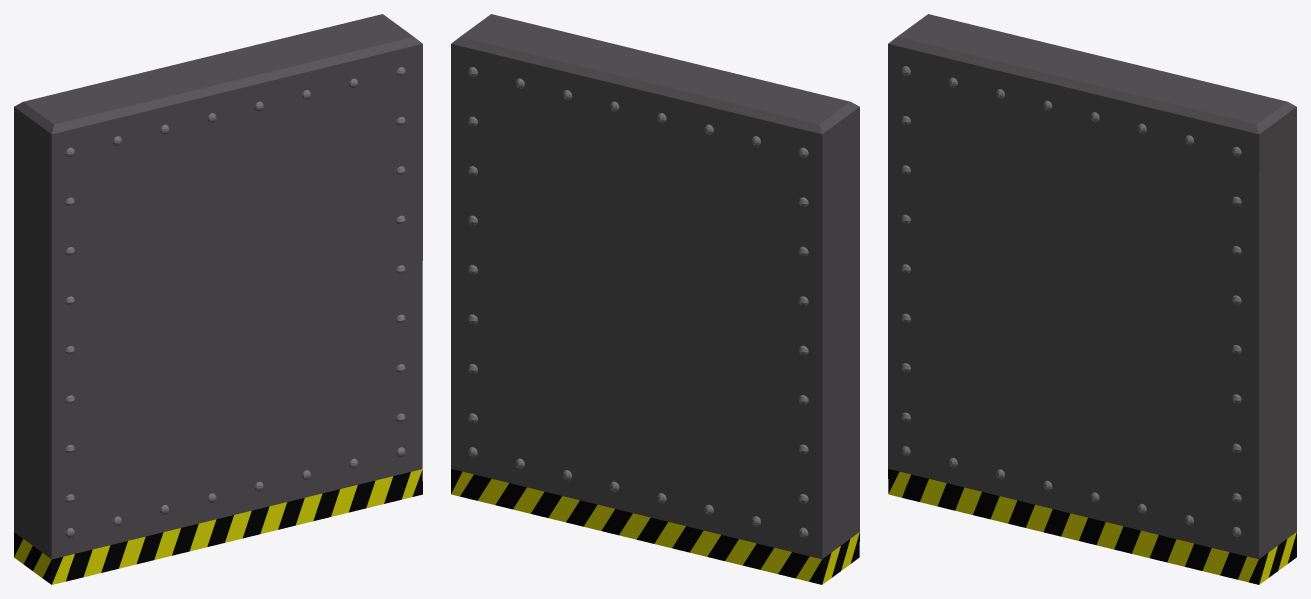
File: MetalWall.glb
3 renders of one model, left to right at view 1: azimuth 30°, elevation 25°; view 2: azimuth 150°, elevation 25°; view 3: azimuth 330°, elevation 25°, orthographic.
Parts seen in each view (by area): view 1: Cube.001, Sphere, Sphere.002, Sphere.003, Sphere.001; view 2: Cube.001, Sphere.007, Sphere.004, Sphere.005, Sphere.006; view 3: Cube.001, Sphere, Sphere.003, Sphere.002, Sphere.001.
Boxes of the visible parts, x1,y1,x2,y2 form: Cube.001: (14,14,422,584); Sphere: (65,447,405,537); Sphere.002: (65,149,74,503); Sphere.003: (396,68,405,422); Sphere.001: (67,67,405,157); Cube.001: (451,14,859,584); Sphere.007: (468,447,808,537); Sphere.004: (468,68,477,422); Sphere.005: (799,149,808,503); Sphere.006: (468,67,806,157); Cube.001: (888,14,1296,584); Sphere: (901,446,1241,536); Sphere.003: (1232,148,1241,502); Sphere.002: (901,67,910,421); Sphere.001: (901,66,1239,156).
Bounding box in the file's own units: 1.92 × 2.25 × 0.3747.
